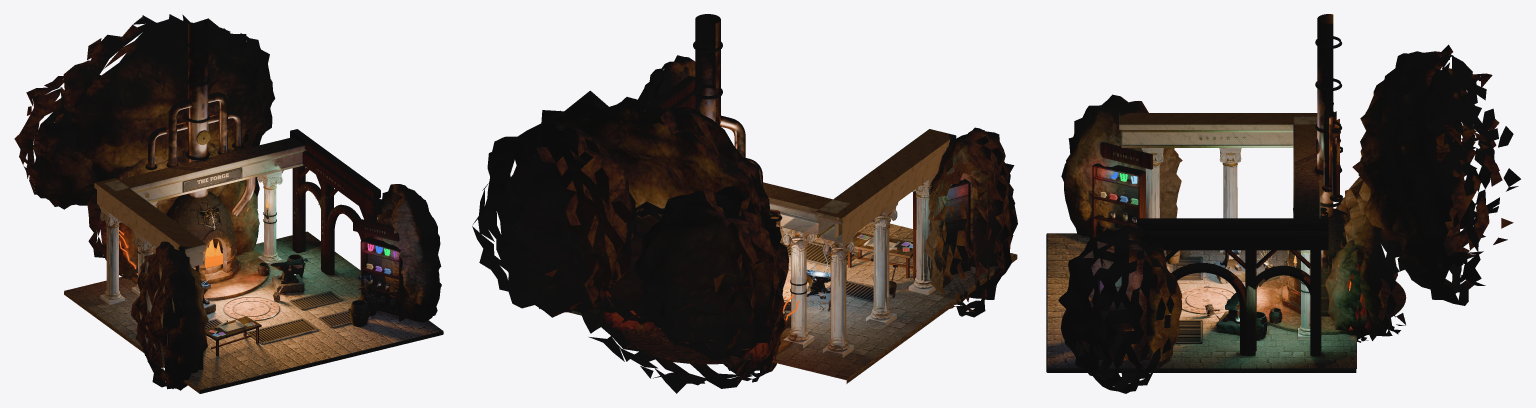
Rendered from forge_hall_raw.glb.
The picture shows the model from 3 angles, left to right: view 1: azimuth 30°, elevation 25°; view 2: azimuth 150°, elevation 25°; view 3: azimuth 270°, elevation 25°; orthographic projection. The views are drawn at different scales.
Parts seen in each view (by area): view 1: BK_Center, BK_Floor, BK_Right, BK_Left, BK_Live; view 2: BK_Center, BK_Left, BK_Floor, BK_Live, BK_Right; view 3: BK_Center, BK_Right, BK_Left, BK_Floor, BK_Live.
Boxes of the visible parts, <box> form: BK_Center: <box>14,14,305,343</box>; BK_Floor: <box>64,231,443,393</box>; BK_Right: <box>232,129,441,326</box>; BK_Left: <box>94,164,261,390</box>; BK_Live: <box>135,19,398,314</box>; BK_Center: <box>472,40,873,393</box>; BK_Left: <box>770,127,1017,357</box>; BK_Floor: <box>539,222,1017,383</box>; BK_Live: <box>676,14,834,313</box>; BK_Right: <box>638,55,695,108</box>; BK_Center: <box>1205,36,1520,342</box>; BK_Right: <box>1058,195,1342,393</box>; BK_Left: <box>1061,94,1342,265</box>; BK_Floor: <box>1046,233,1406,372</box>; BK_Live: <box>1110,14,1340,335</box>.
Size of the model in its own units: 14.65 by 13.39 by 18.33.
Materials: 18 (5 with a texture image).
